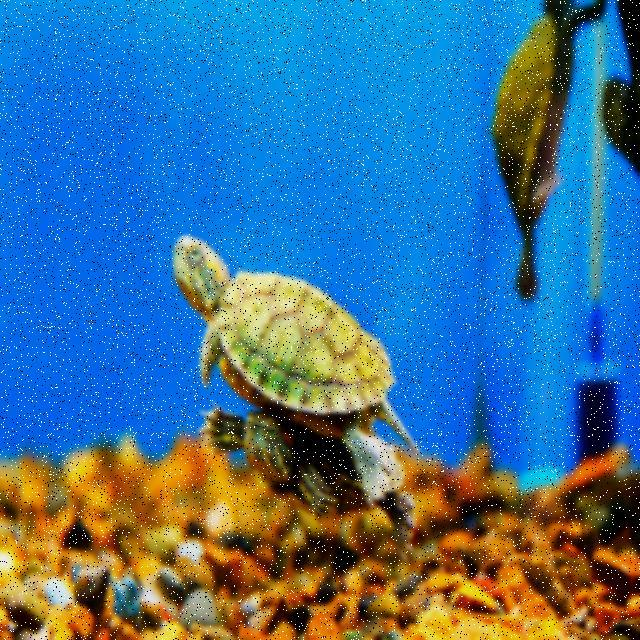tortoise: (168, 233, 410, 432)
